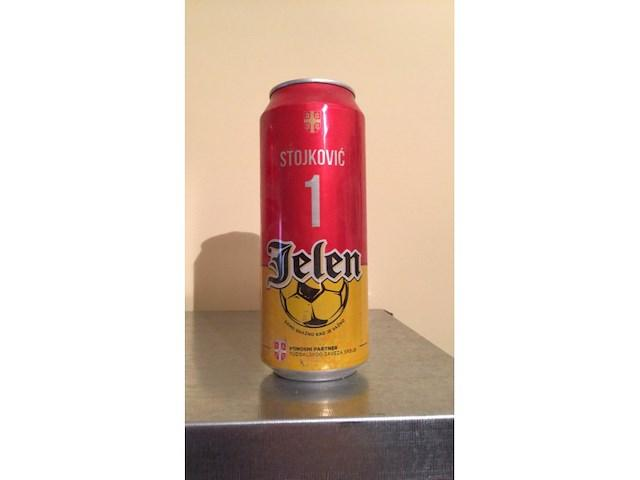metal: (256, 75, 375, 383)
